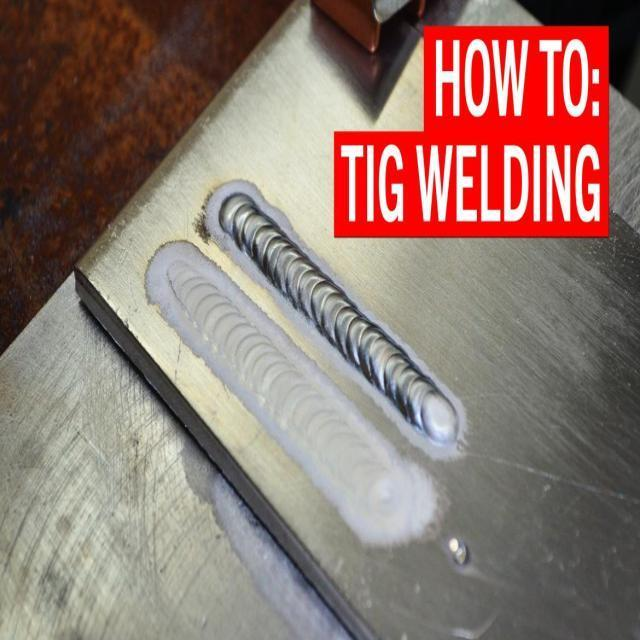Good Welding: (220, 193, 459, 445)
